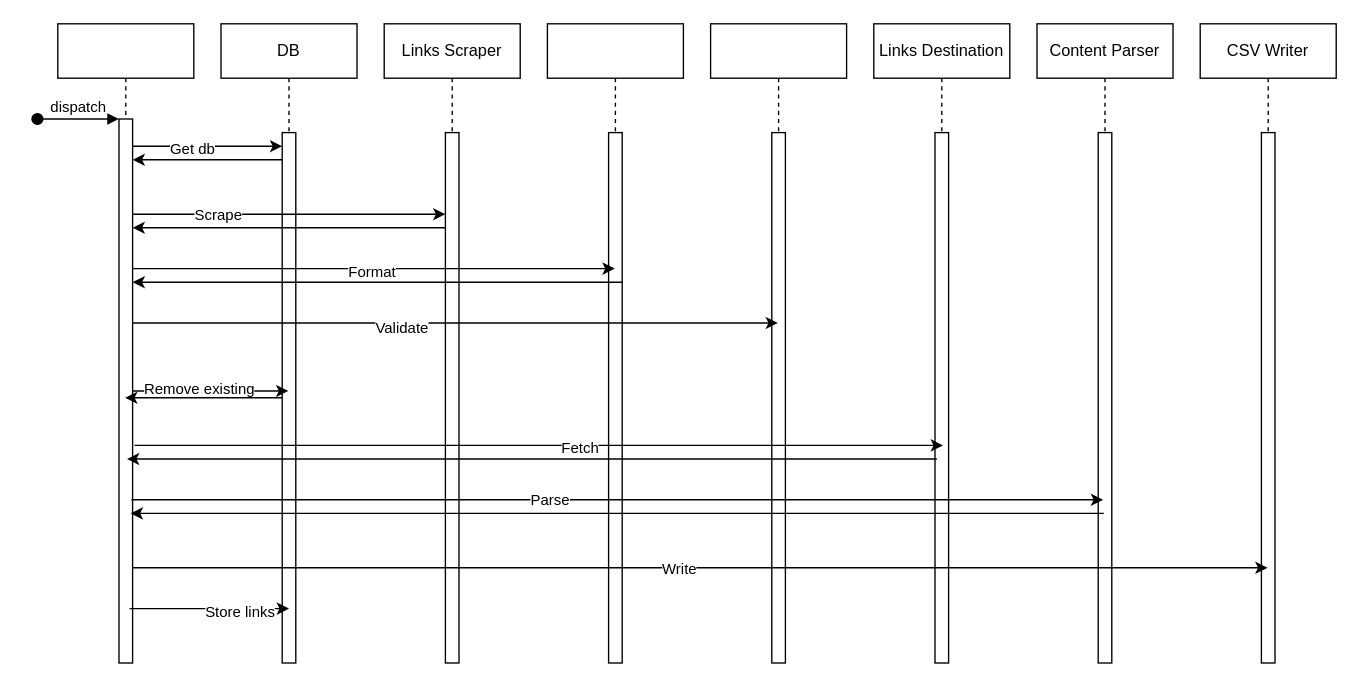
Image size: 1360x687. Some labels were removed from this diagram. The box of each missing label's shape, as (x1, y1, x2, y2) in pixels:
Execute: (56, 22, 194, 663)
Links Formatter: (546, 22, 683, 663)
Links Validator: (709, 22, 847, 663)
